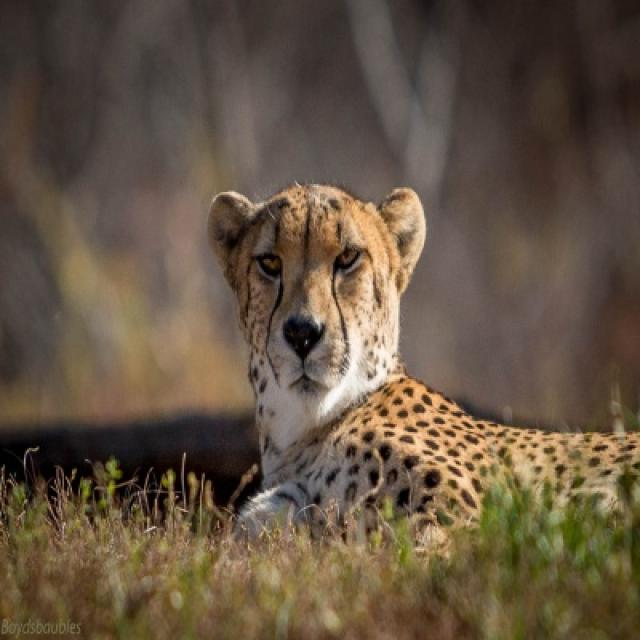Cheetah: (206, 184, 638, 541)
